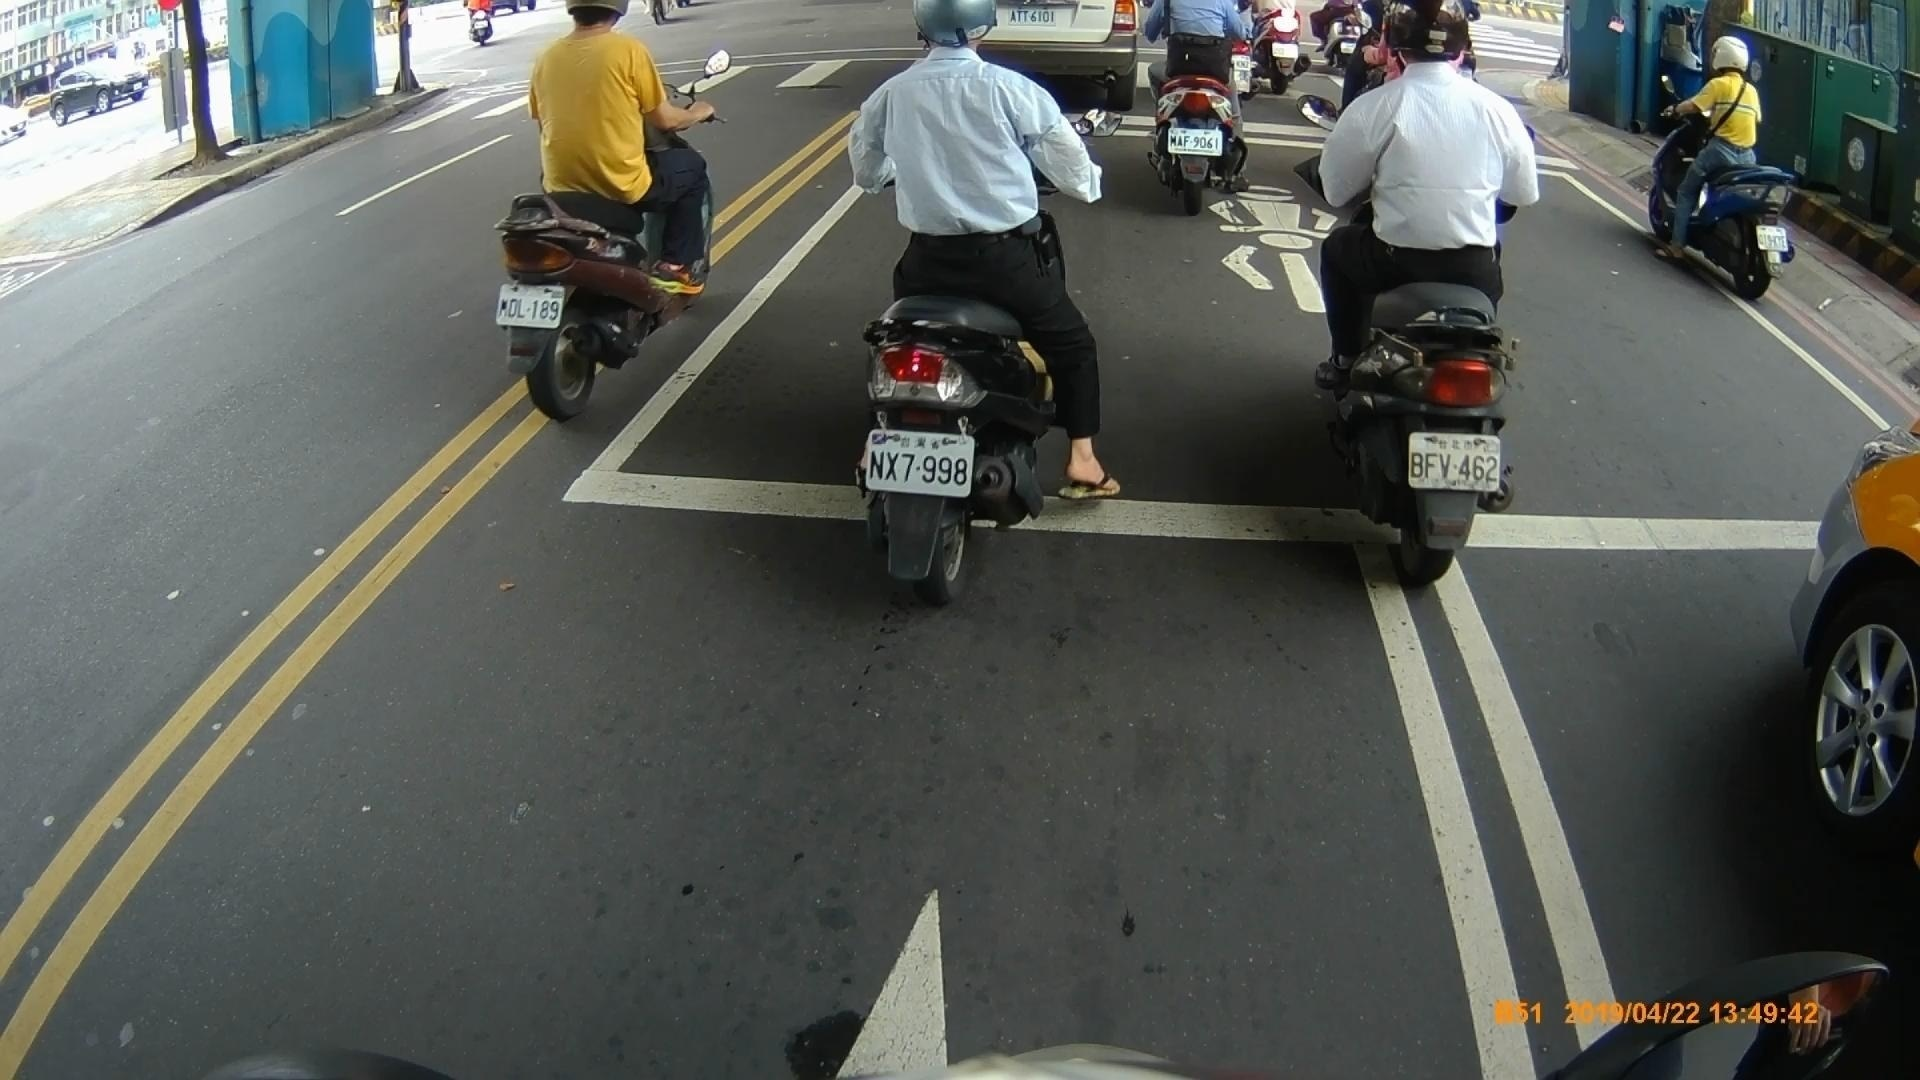License_plate: (862, 425, 974, 506), (1397, 428, 1507, 496), (496, 283, 567, 328), (1164, 127, 1225, 154), (1752, 221, 1787, 250)
